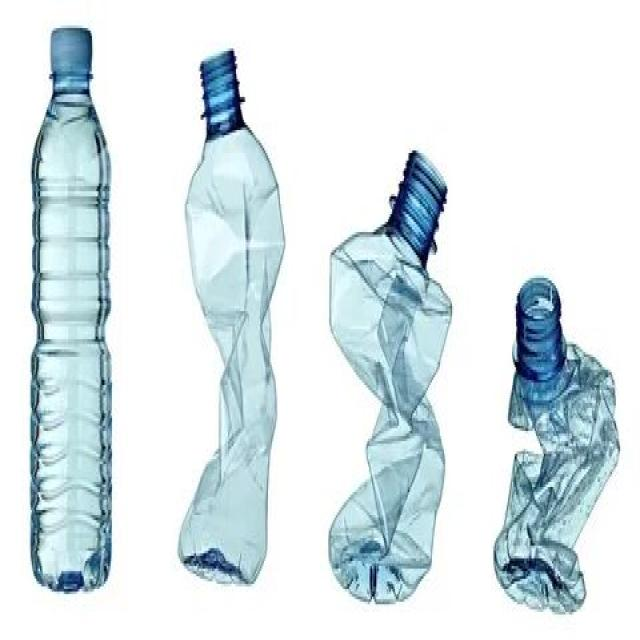blue: (177, 48, 285, 586), (328, 148, 452, 607), (491, 274, 622, 617), (29, 68, 113, 590)
